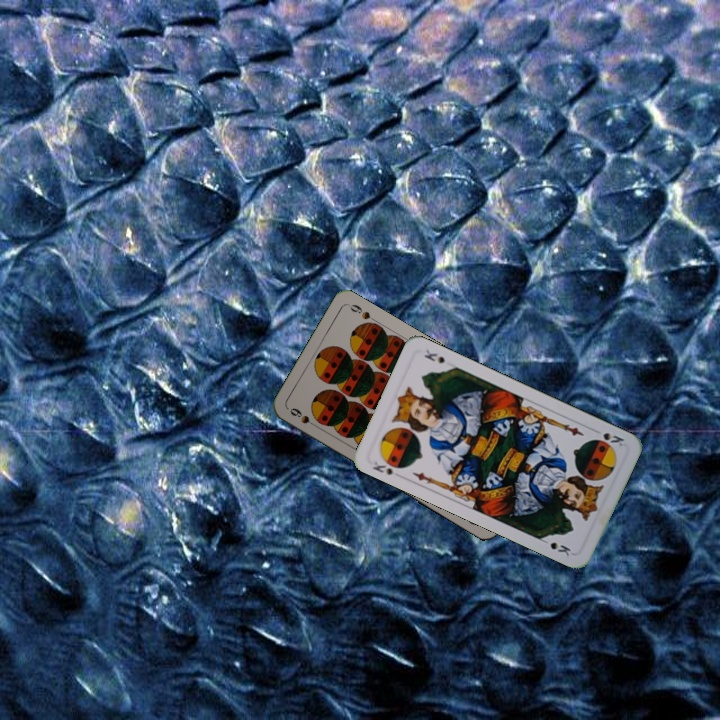S9: (286, 403, 322, 431)
SK: (589, 425, 627, 451), (368, 457, 396, 478)
